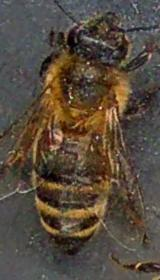varroa_mite: (36, 122, 69, 154)
